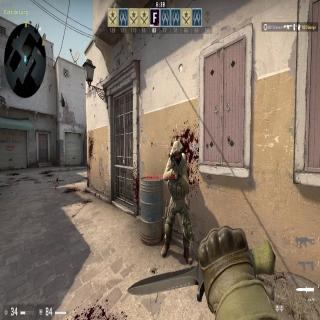T-Body: (167, 140, 189, 262)
T-Head: (170, 140, 183, 164)
